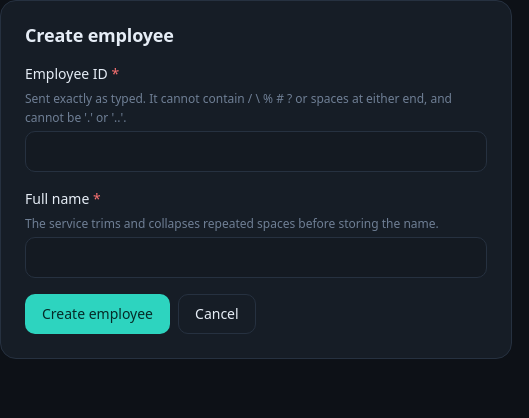
Scenario: create employee form › rejects an identifier the proxy could not address
In the field labelled "Employee ID *": (256, 152) [25, 131, 487, 172], type "EMP/1"
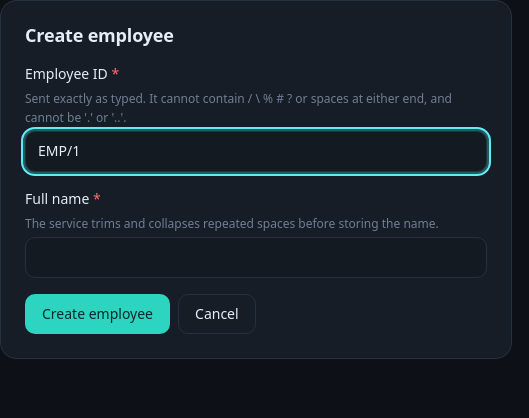
In the field labelled "Full name *": (256, 258) [25, 237, 487, 278], type "Ada Example"
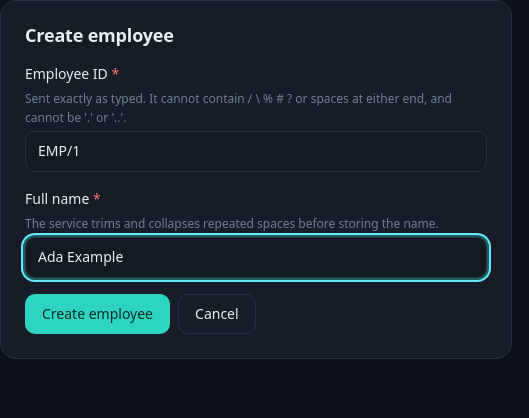
Click the button "Create employee": (98, 314) [25, 294, 170, 334]
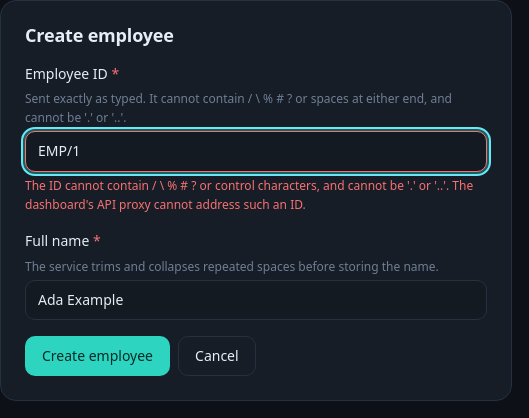
Expected: the message shows "control characters", [25, 177, 473, 213]
